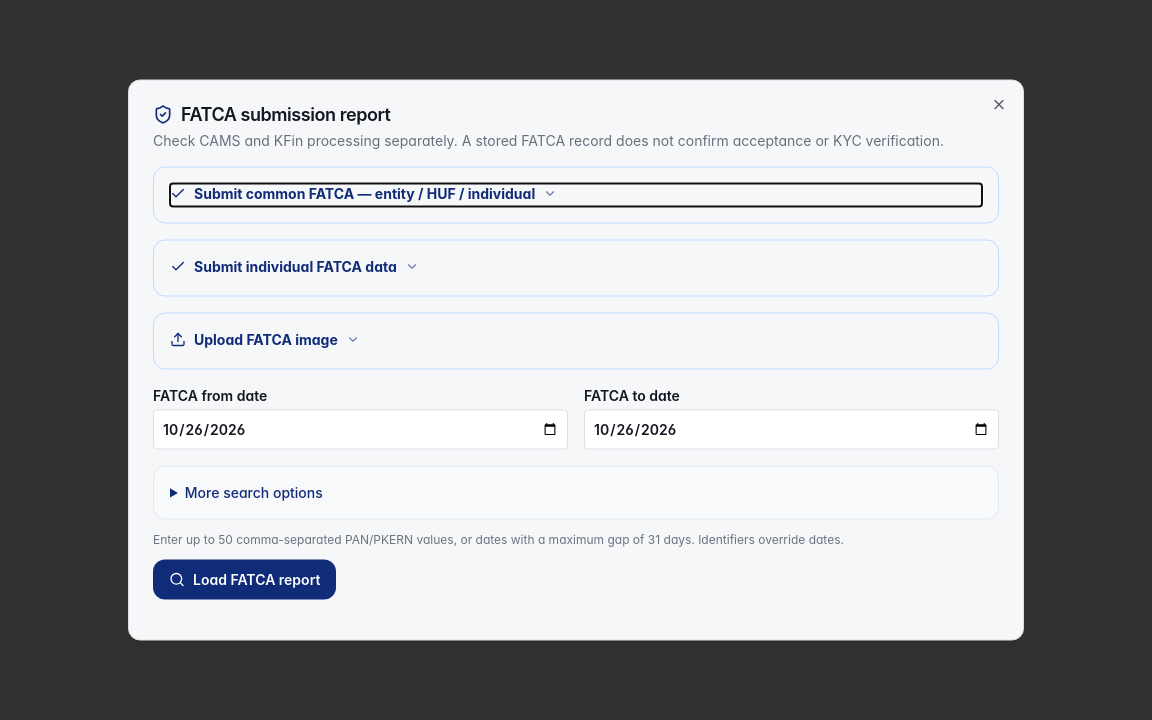
Scenario: shows independent RTA statuses and masks identity details
The image size is (1152, 720).
Click the button "Load FATCA report" at (245, 580), box top-left (153, 560), bottom-right (336, 600)
(page scrolled)
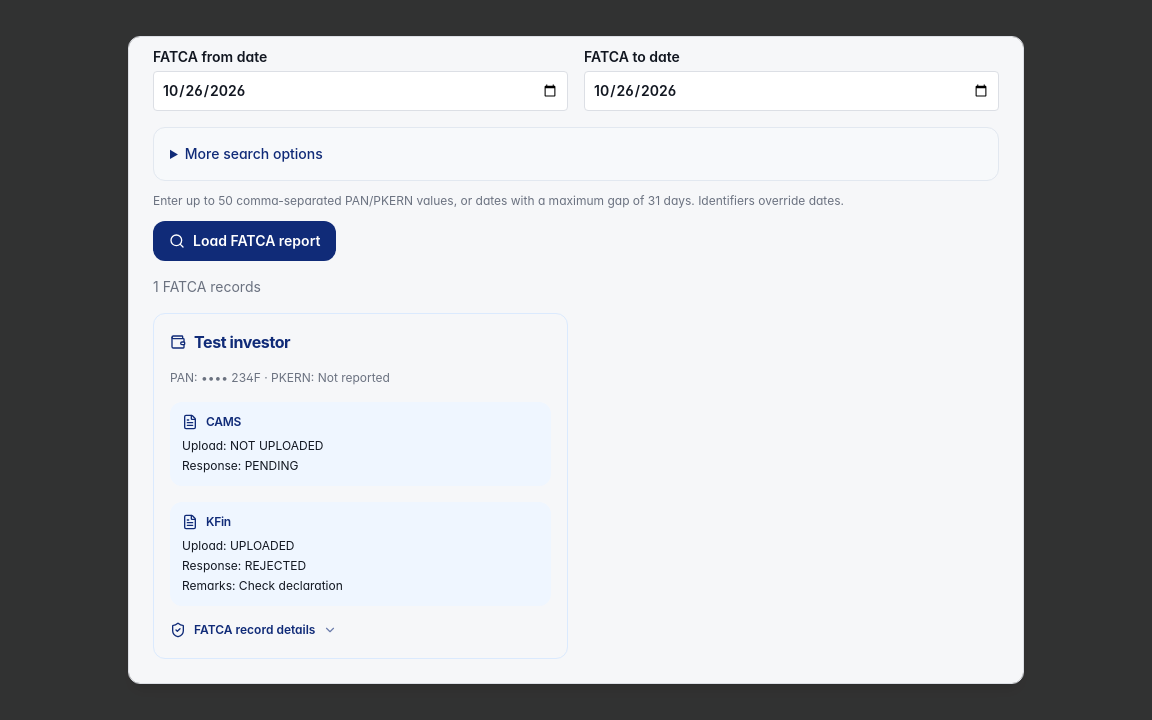
Expected: the heading "Test investor" is shown, top-left (170, 332), bottom-right (290, 352)
Expected: the text "Response: REJECTED" is shown, top-left (182, 558), bottom-right (306, 573)
Click the heading "FATCA record details" at (254, 630), box top-left (170, 622), bottom-right (338, 638)
(page scrolled)
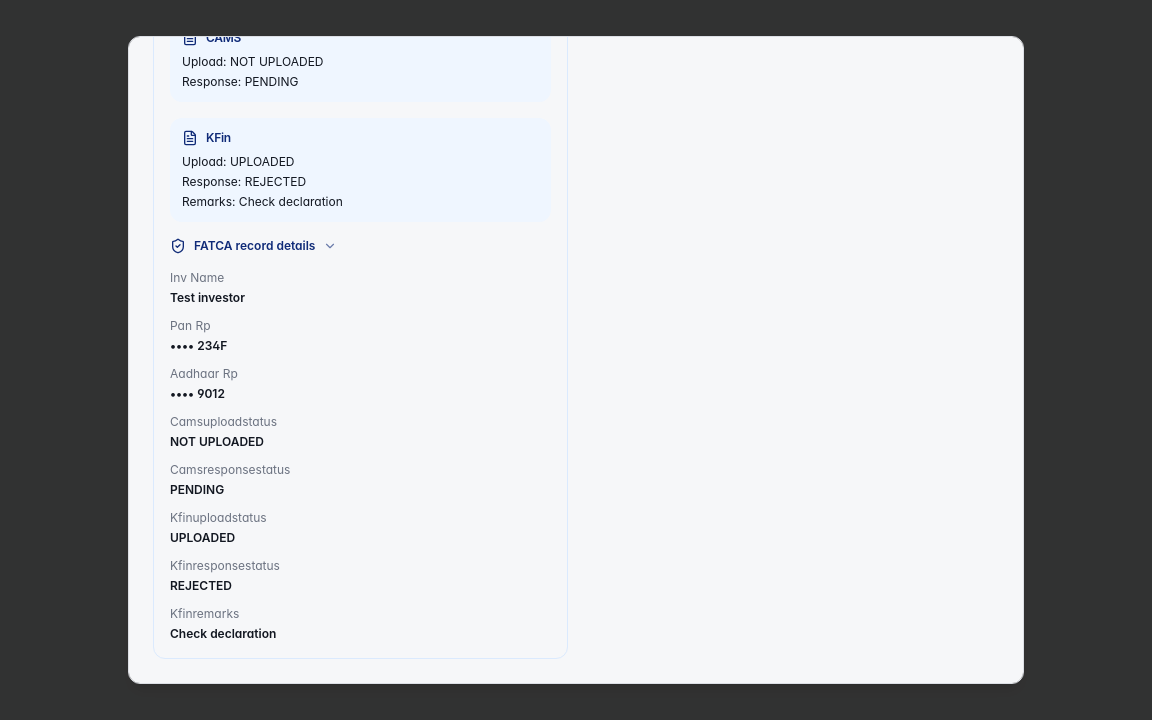
Expected: the text "•••• 9012" is shown, top-left (170, 386), bottom-right (225, 401)
